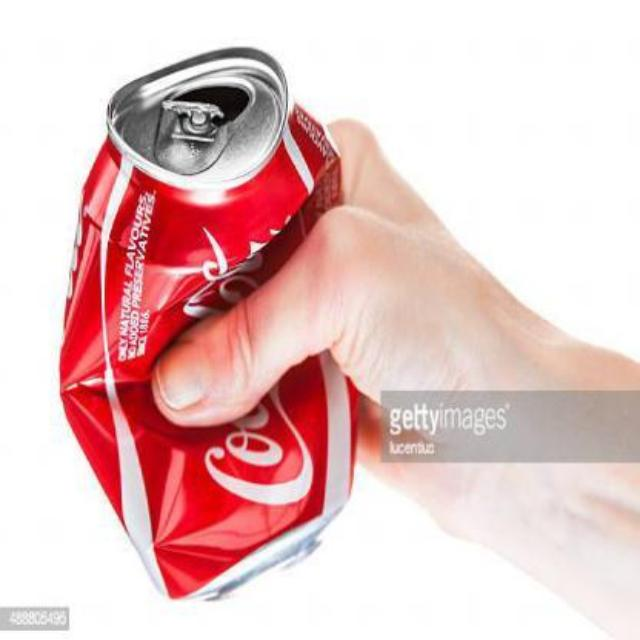metal: (58, 46, 354, 595)
